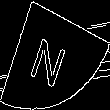N_NE: (33, 24, 77, 86)
